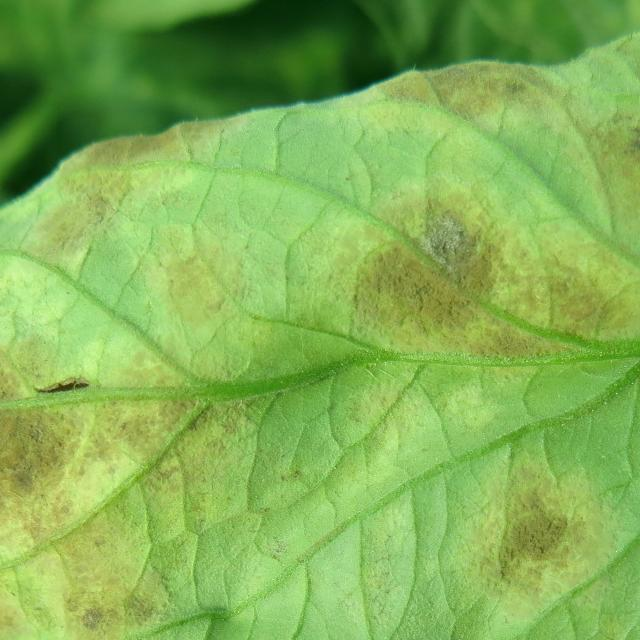Tomato mold leaf: (0, 10, 640, 640)
